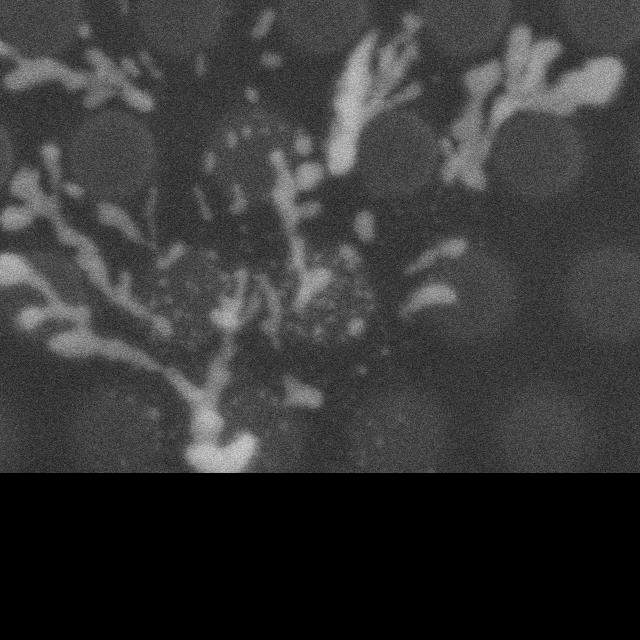Dendrite: (0, 252, 286, 473), (0, 145, 171, 341), (440, 26, 623, 190), (2, 176, 175, 340), (326, 13, 422, 175), (0, 18, 154, 112), (0, 20, 153, 111), (269, 151, 338, 312), (273, 243, 374, 346), (145, 245, 232, 349), (93, 189, 189, 270), (325, 33, 375, 174), (0, 252, 88, 332), (405, 237, 467, 273), (400, 282, 457, 318), (215, 115, 258, 154), (284, 375, 322, 408), (136, 48, 164, 84), (215, 188, 245, 215), (192, 184, 213, 220), (354, 209, 375, 242), (252, 9, 273, 38), (92, 0, 128, 16), (189, 53, 208, 79), (297, 128, 313, 156), (260, 50, 282, 69), (202, 148, 218, 174), (245, 87, 260, 102)
